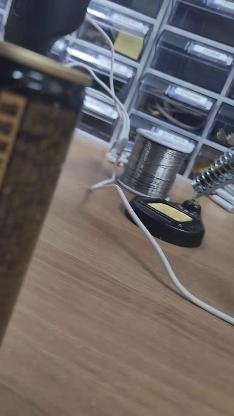Can: (1, 44, 94, 372)
